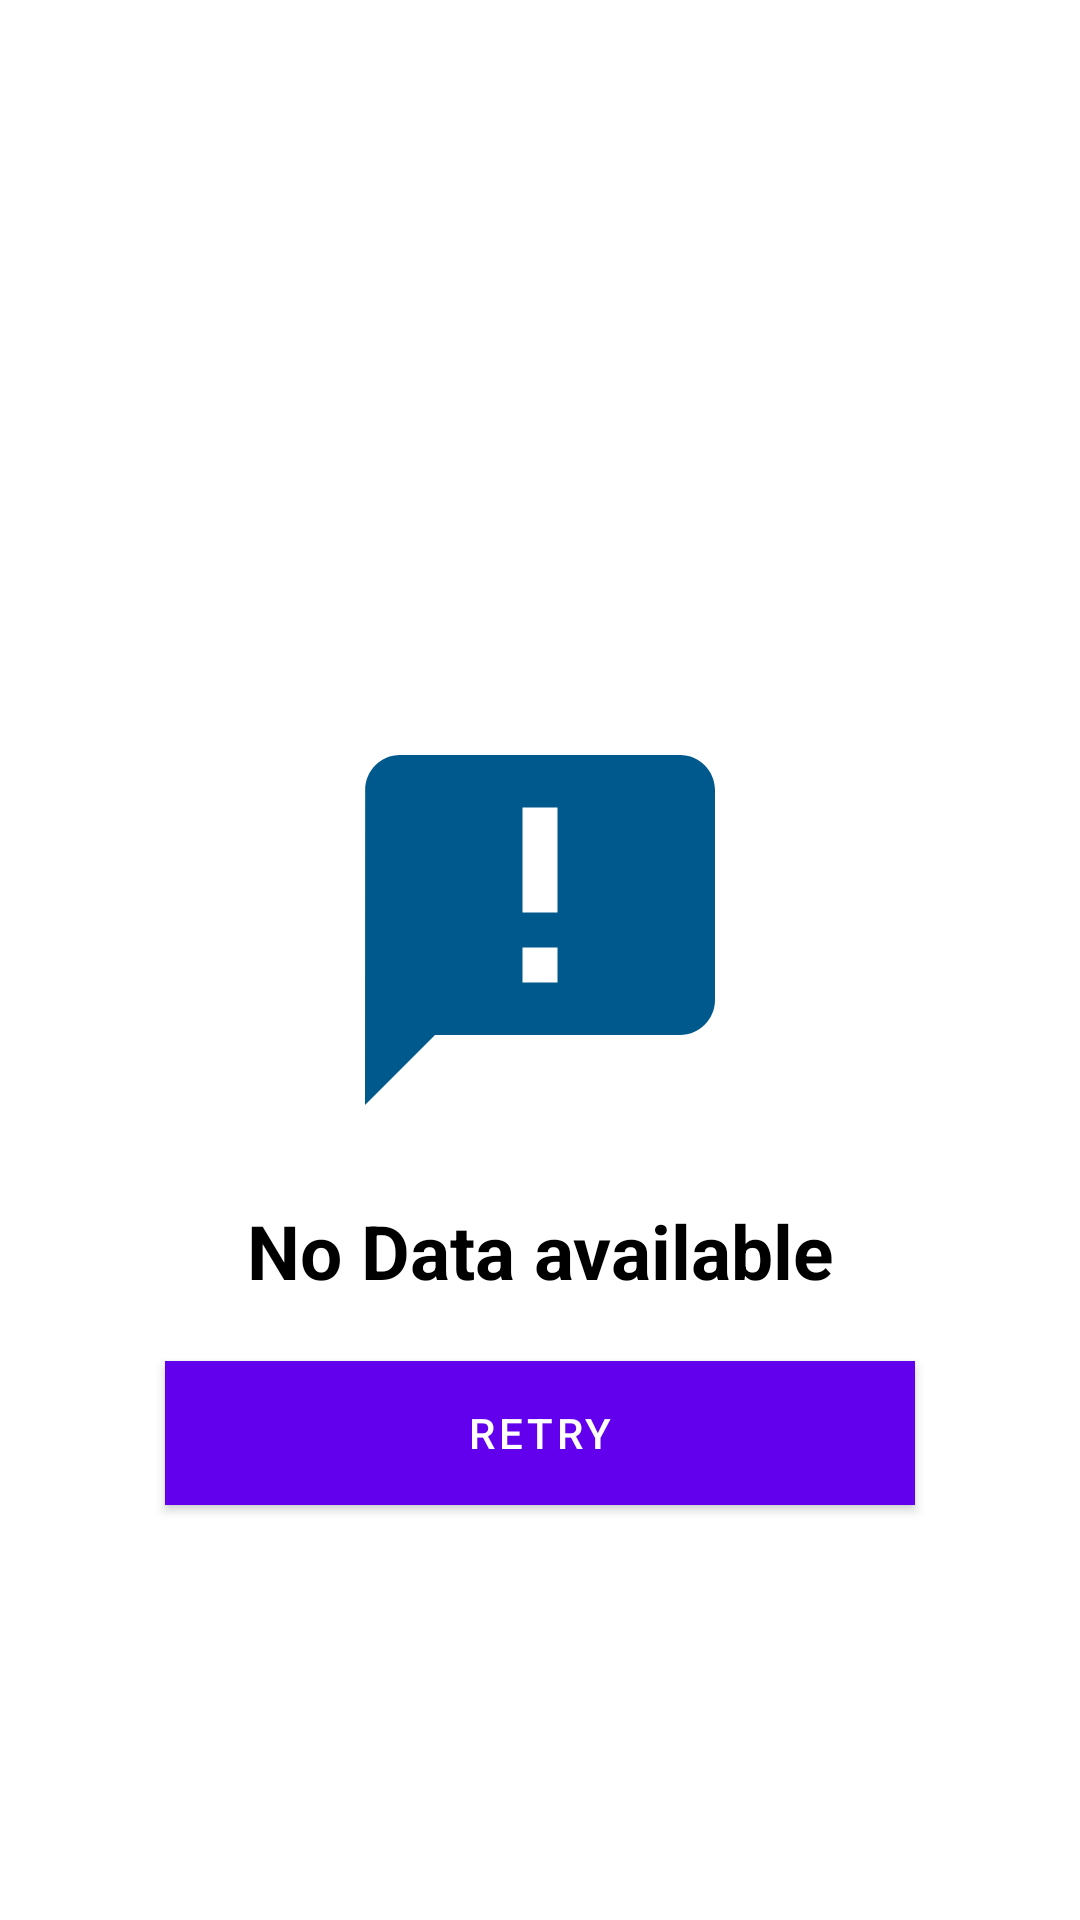

Where to tap for icons on this 1080*1920 app screen, as point (x, y):
error: point (540, 930)
